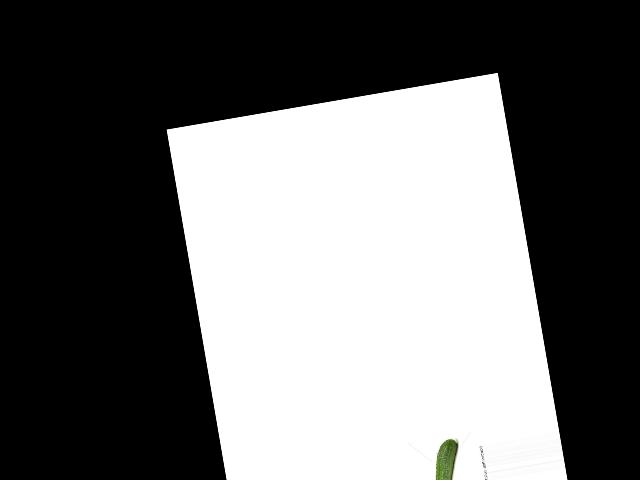cucumber: (427, 438, 467, 480)
